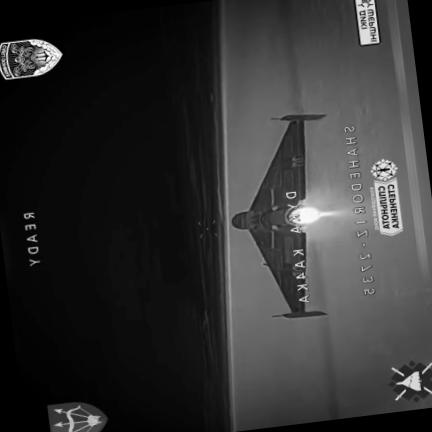Shahed: (232, 114, 327, 318)
